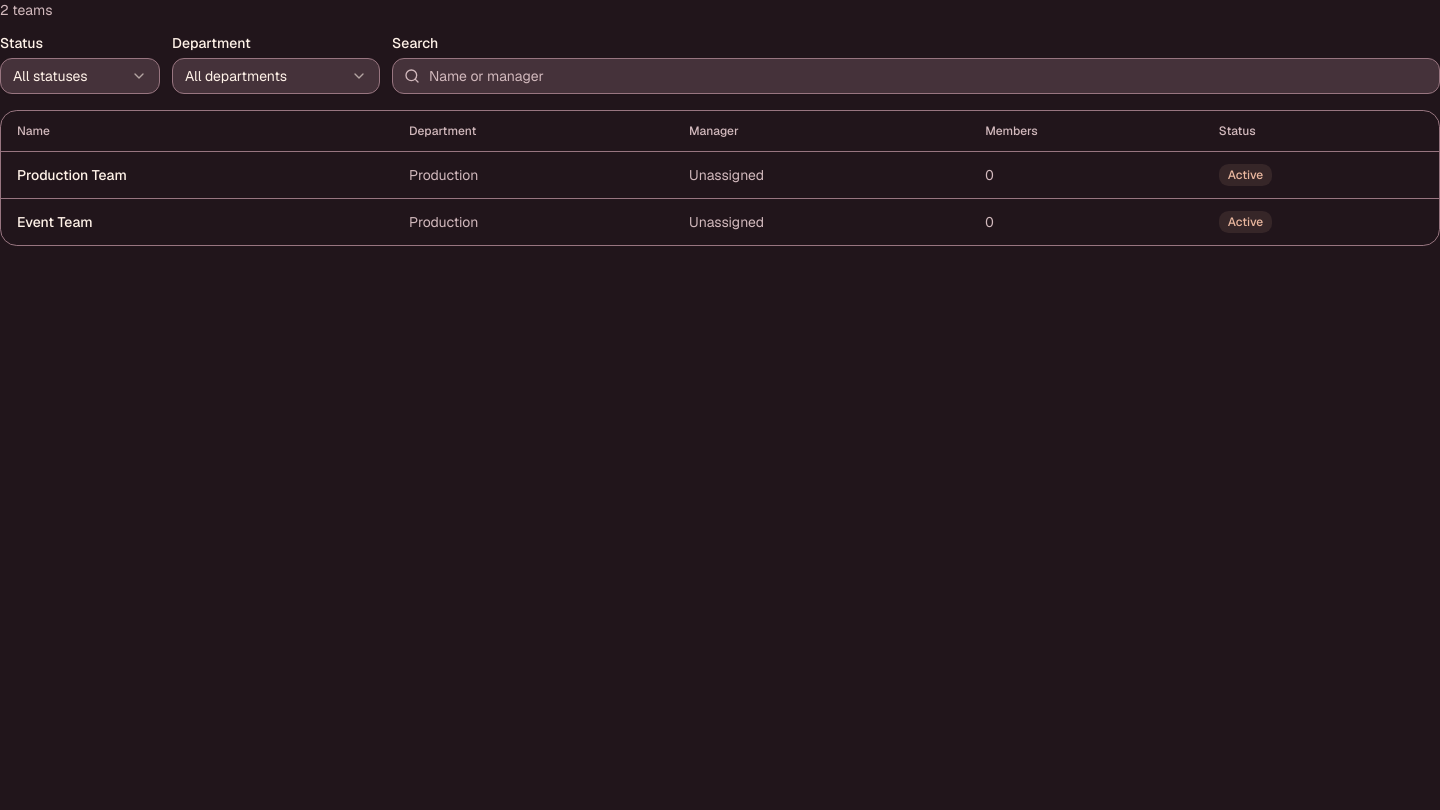
it: TeamsManager API integration › hides the detail-dialog write controls for a read-only caller
Expected: the text "2 teams" is shown, [0, 0, 52, 20]
Click the button "Production Team" at (72, 175), box [17, 165, 127, 185]
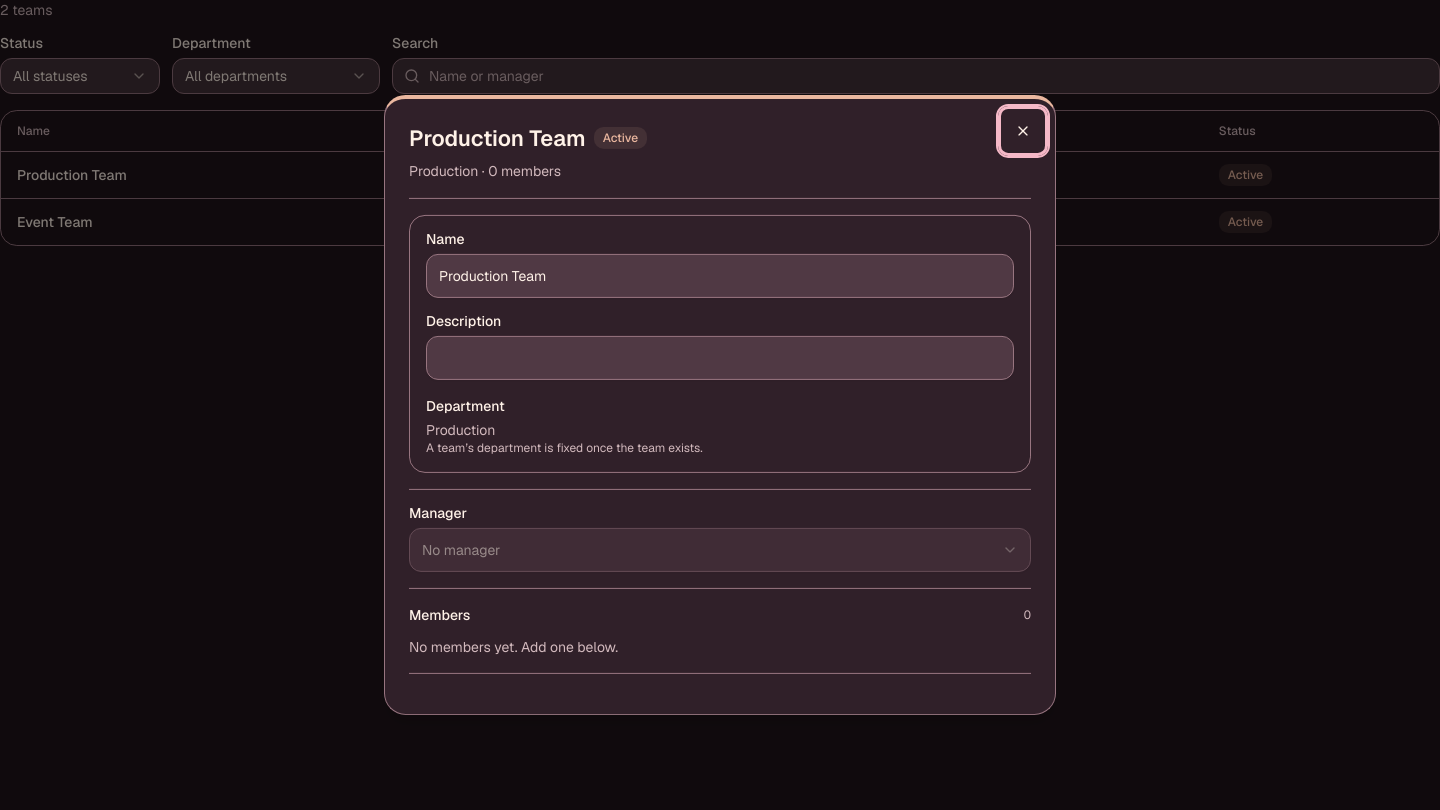
Expected: the heading "Production Team" is shown, [409, 123, 586, 154]
